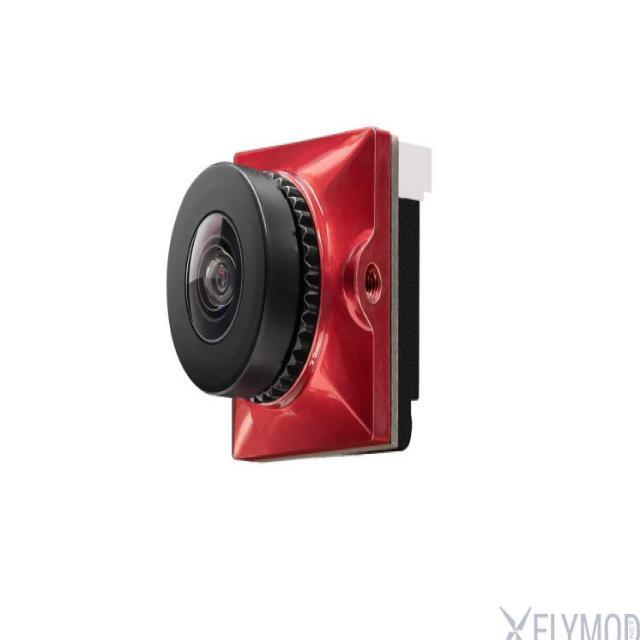hidden camera: (170, 202, 267, 359)
